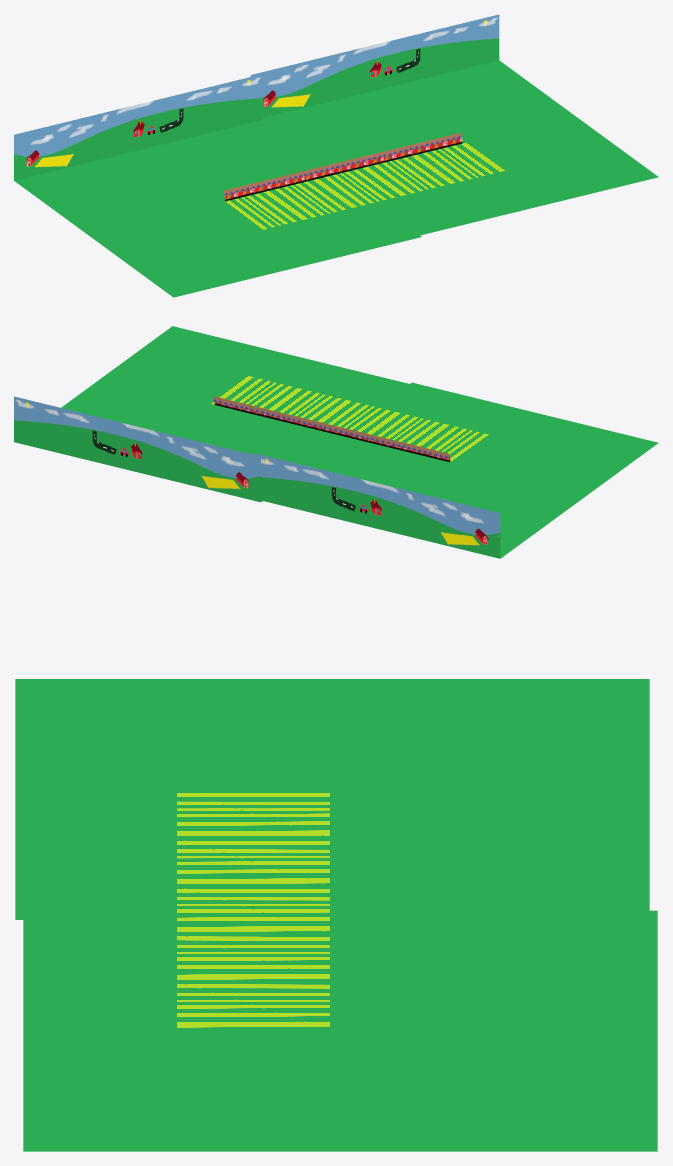
File: taustatesti.gltf
3 views of the same model, one above another, from view 1: azimuth 30°, elevation 25°; view 2: azimuth 150°, elevation 25°; view 3: azimuth 270°, elevation 25° (orthographic). The views are drawn at different scales.
Visible parts, largest first — view 1: Plane.003, Plane, Plane.001, Plane.002; view 2: Plane.003, Plane, Plane.001, Plane.002; view 3: Plane.003, Plane, Plane.001.
Boxes of the visible parts, box(x1,y1,x2,y2) form: Plane.003: box(14, 74, 421, 297); Plane: box(250, 14, 658, 237); Plane.001: box(222, 142, 506, 230); Plane.002: box(223, 132, 462, 201); Plane.003: box(253, 382, 658, 558); Plane: box(14, 326, 419, 502); Plane.001: box(209, 375, 491, 462); Plane.002: box(213, 396, 450, 462); Plane.003: box(15, 679, 649, 919); Plane: box(23, 910, 657, 1151); Plane.001: box(177, 790, 329, 1029).
Bounding box in the file's own units: 17.63 × 1.59 × 10.13.
1 material, 1 textured.
